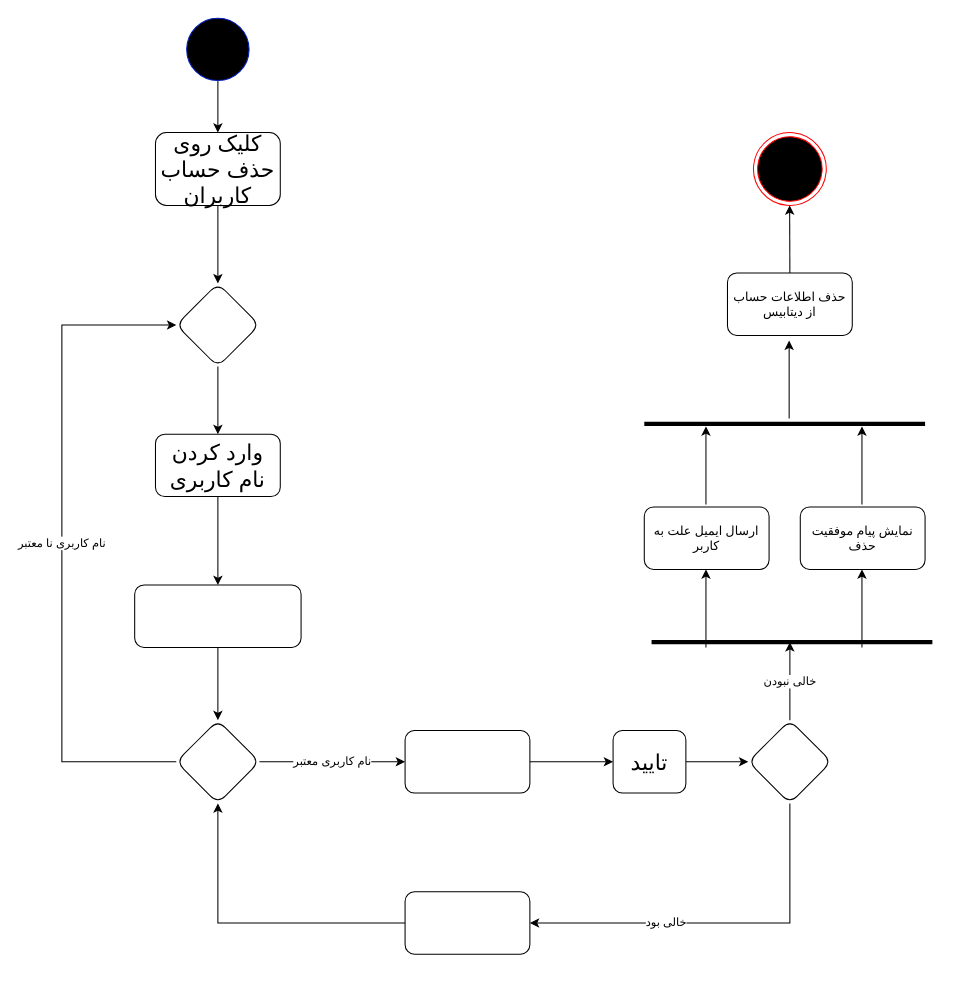
This 953x986 diagram has some shape labels left out. Here are the shapes that lost their labels. From the top down, the box of each, then its label:
(134, 584, 301, 647): کلیک روی حذف
(404, 730, 530, 793): نوشتن دلیل حذف
(404, 891, 530, 954): نمایش پیام نوشتن علت الزامی است
